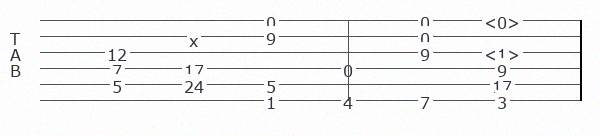0: (266, 12, 280, 28), (343, 60, 357, 76), (420, 12, 434, 28), (420, 28, 434, 44)
1: (266, 92, 280, 108)
12: (107, 44, 131, 60)
17: (184, 60, 208, 76), (492, 76, 516, 92)
24: (184, 76, 208, 92)
3: (497, 92, 511, 108)
4: (343, 92, 357, 108)
5: (112, 76, 126, 92), (266, 76, 280, 92)
7: (112, 60, 126, 76), (420, 92, 434, 108)
9: (266, 28, 280, 44), (420, 44, 434, 60), (497, 60, 511, 76)
harmonic: (484, 44, 524, 60), (484, 12, 524, 28)
x: (189, 30, 202, 43)
